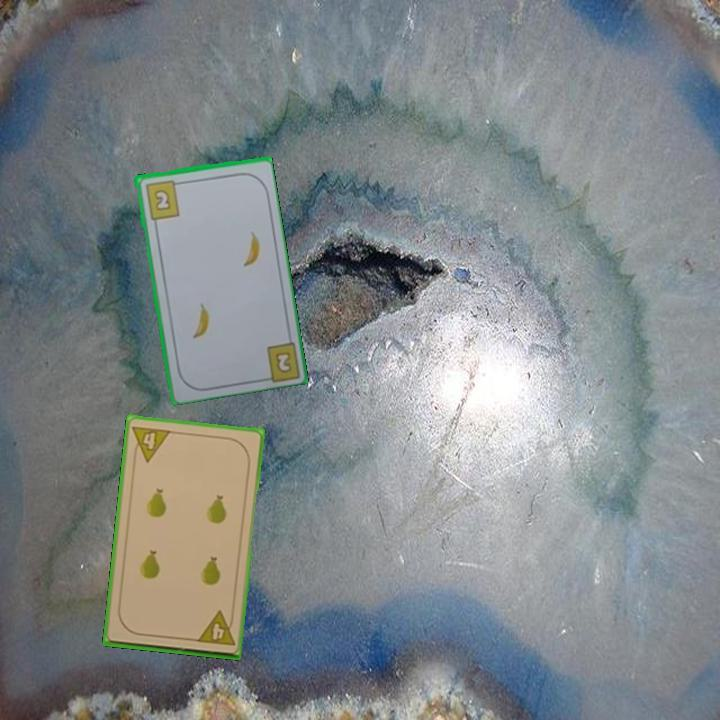2b: (142, 176, 184, 222), (271, 348, 295, 376)
4p: (129, 422, 173, 465), (193, 608, 238, 649)
